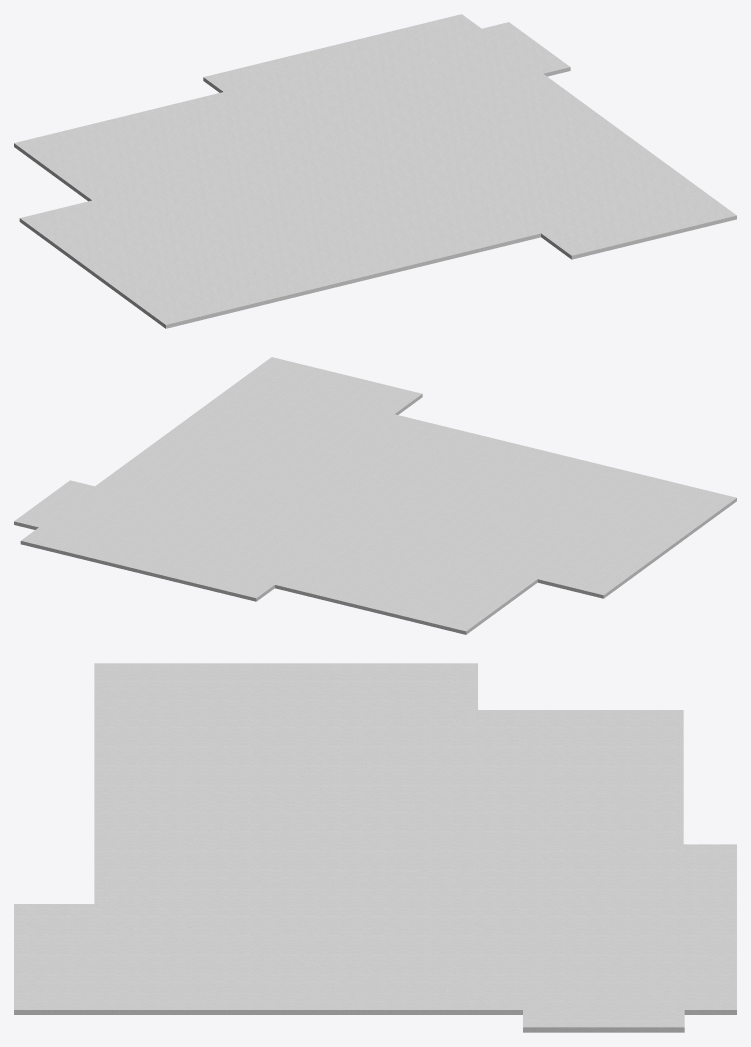
The model's file is fangding.fbx.
3 views of the same model, one above another, from view 1: azimuth 30°, elevation 25°; view 2: azimuth 150°, elevation 25°; view 3: azimuth 270°, elevation 25° (orthographic). The views are drawn at different scales.
Parts seen in each view (by area): view 1: fangding; view 2: fangding; view 3: fangding.
Part boxes in pixels (left/top/right/bottom): fangding: left=14, top=14, right=736, bottom=328; fangding: left=14, top=357, right=736, bottom=634; fangding: left=14, top=663, right=736, bottom=1032.
Bounding box in the file's own units: 1457 × 9.45 × 1223.
